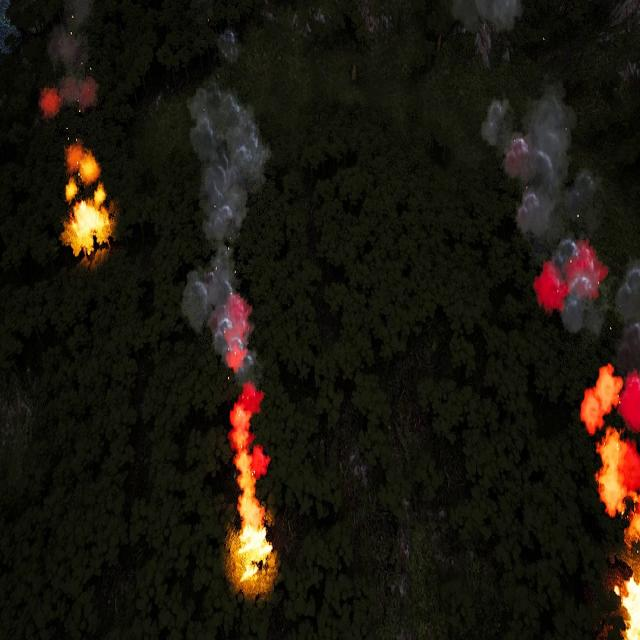fire: (233, 503, 277, 586), (65, 191, 109, 252), (616, 574, 640, 637)
smoke: (479, 84, 640, 550), (184, 80, 288, 493), (41, 0, 104, 183)
